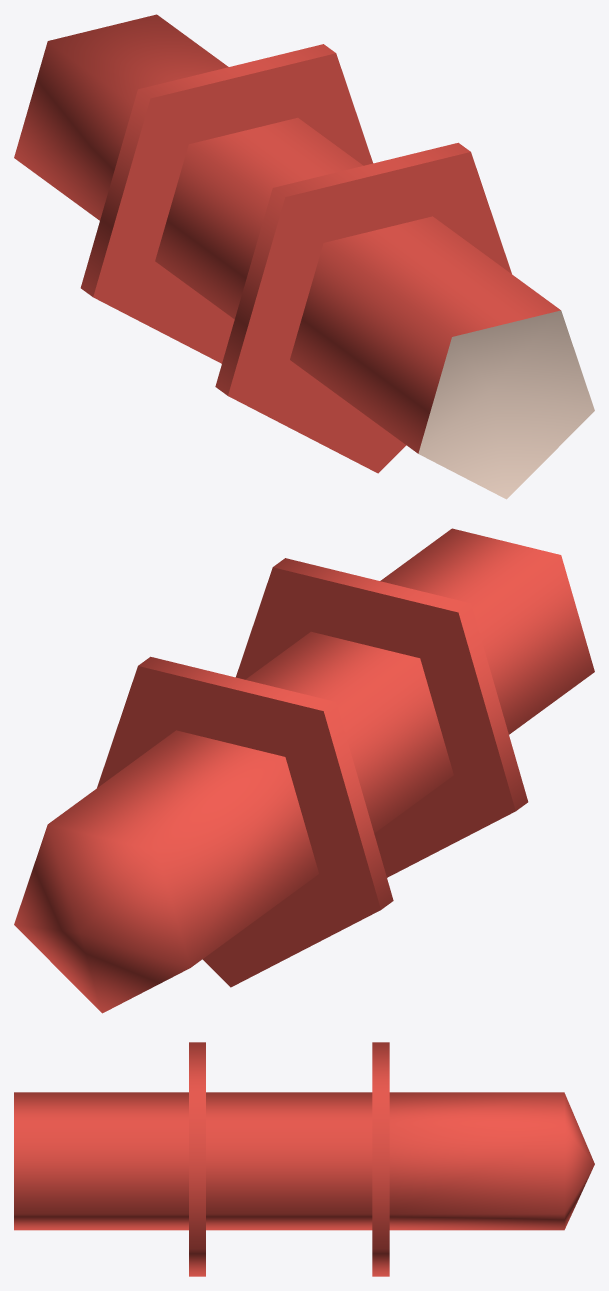
File: optical-probe.fbx
3 views of the same model, one above another, from view 1: azimuth 30°, elevation 25°; view 2: azimuth 150°, elevation 25°; view 3: azimuth 270°, elevation 25° (orthographic). The views are drawn at different scales.
Visible parts, largest first — view 1: Cylinder; view 2: Cylinder; view 3: Cylinder.
Part boxes in pixels (bbox=[...]): Cylinder: bbox=[14, 14, 594, 499]; Cylinder: bbox=[14, 528, 594, 1013]; Cylinder: bbox=[14, 1042, 594, 1276].
Size of the model in its own units: 6.47 by 6.15 by 15.91.
Materials: 1 (1 with a texture image).
